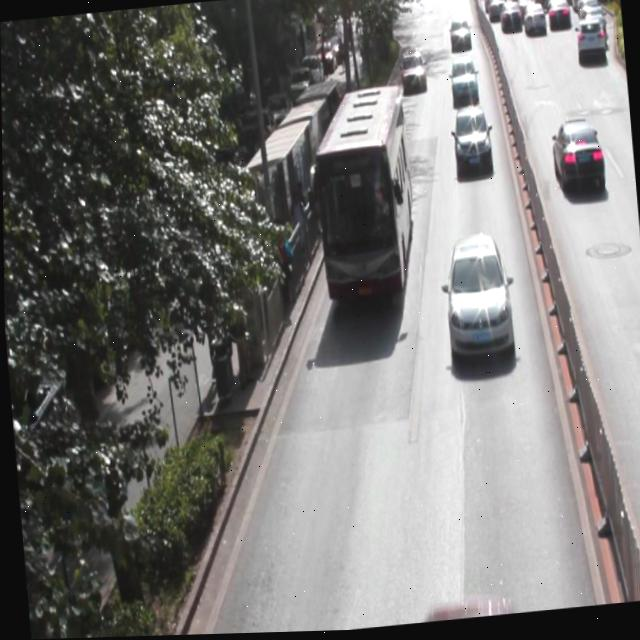car: (438, 236, 511, 364), (548, 118, 603, 205), (410, 601, 524, 626), (449, 107, 491, 171), (447, 57, 477, 105), (396, 50, 426, 94)
van: (308, 83, 418, 302)
